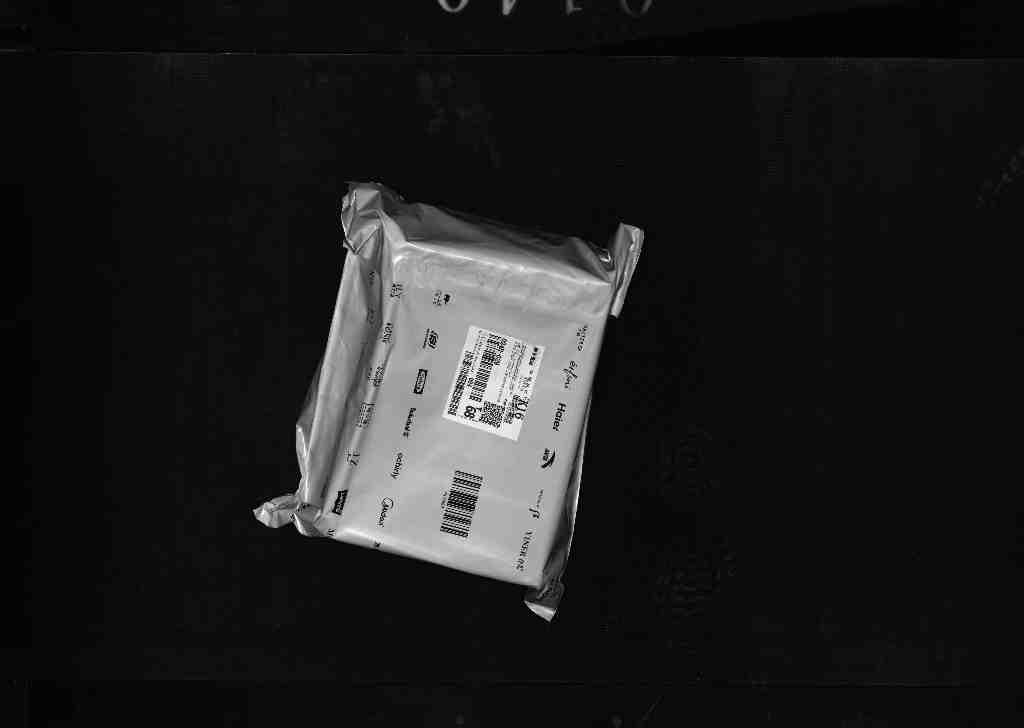box: (246, 195, 672, 629)
